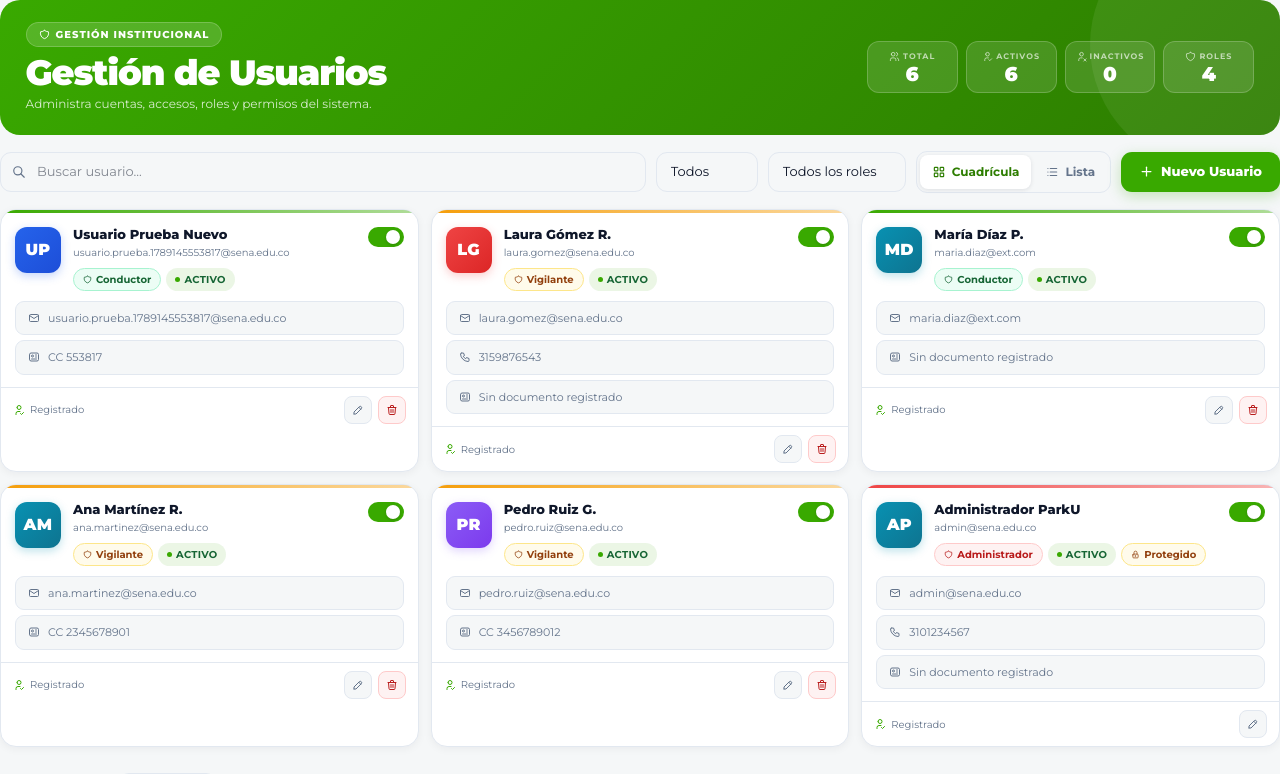
it: Usuarios › elimina un usuario: pide confirmación y lo quita de la lista
Expected: the text "María Díaz P." is shown, [934,227,1036,243]
Click the button named "Eliminar María Díaz P.". click: (1253, 410)
box: [1239,396,1267,424]
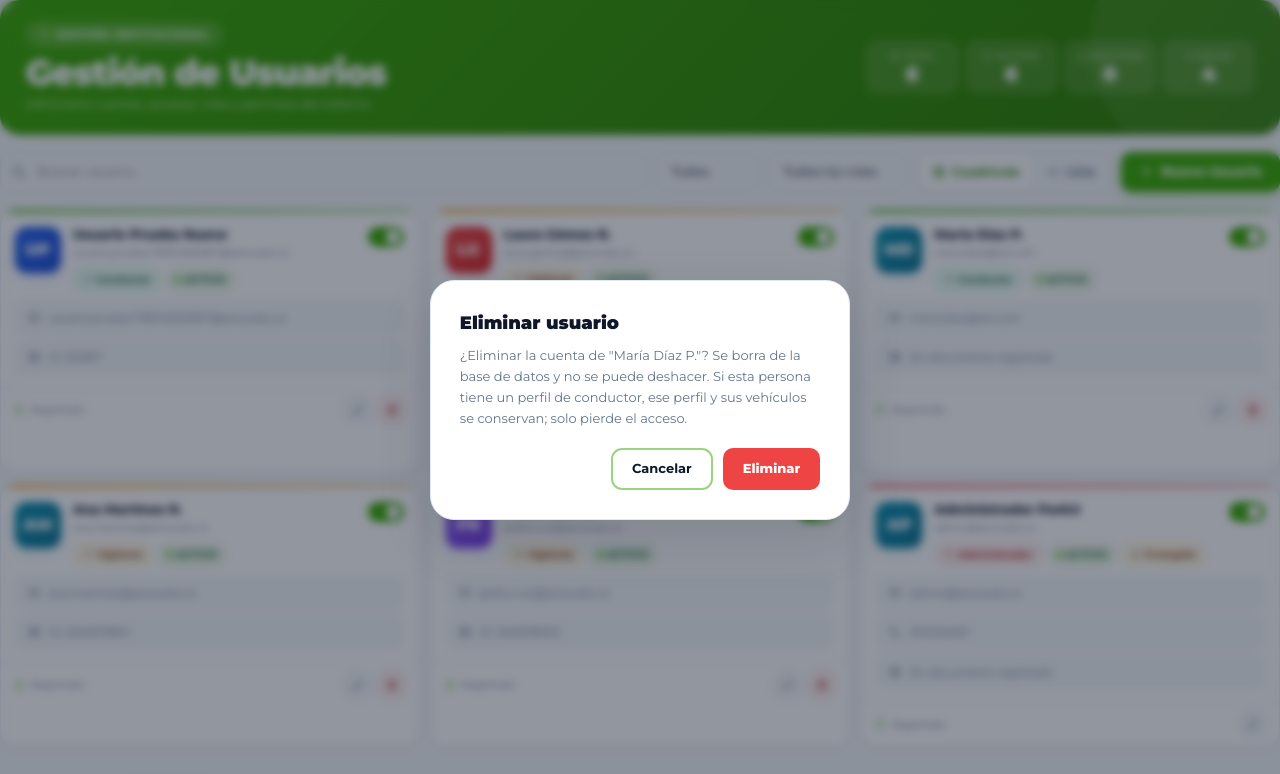
Result: the text "María Díaz P." is shown at [460,347,811,426]
Click the button "Eliminar". click: (771, 469)
box: [723,448,820,490]
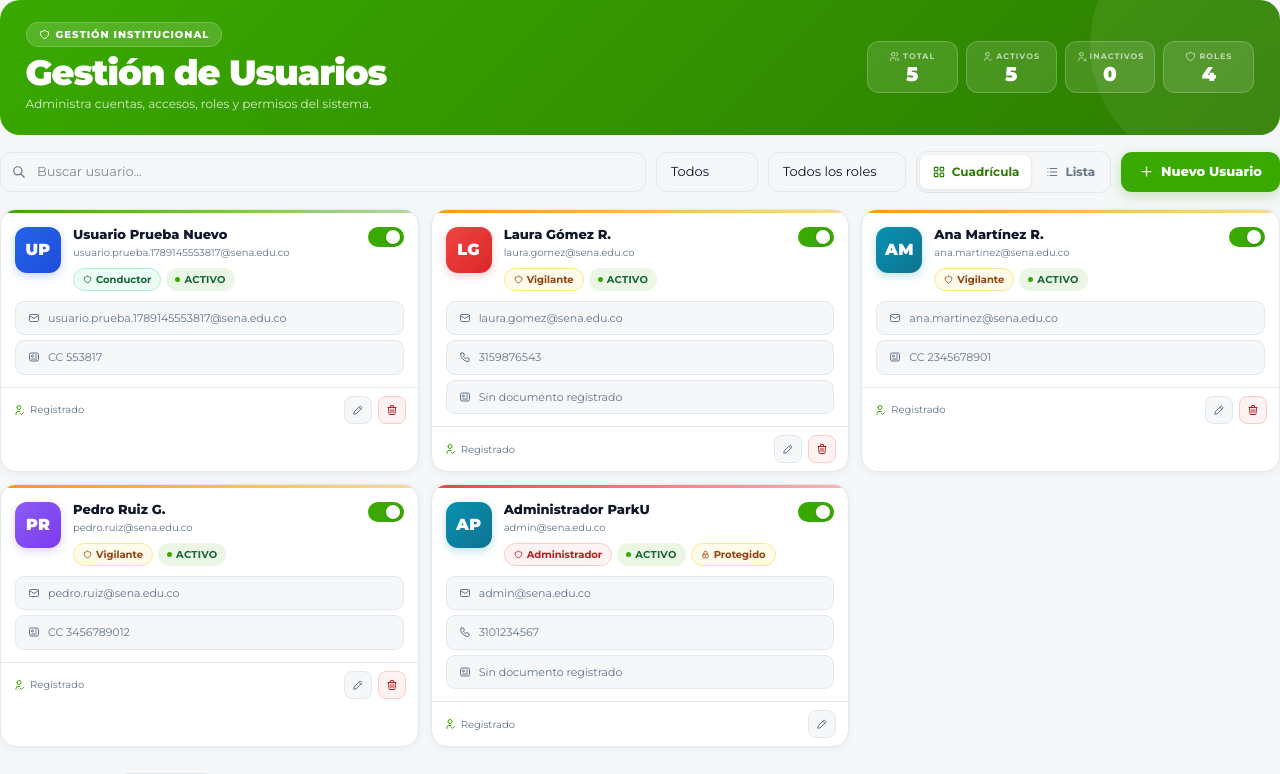
Result: the dialog is gone
Result: the text "María Díaz P." is gone
